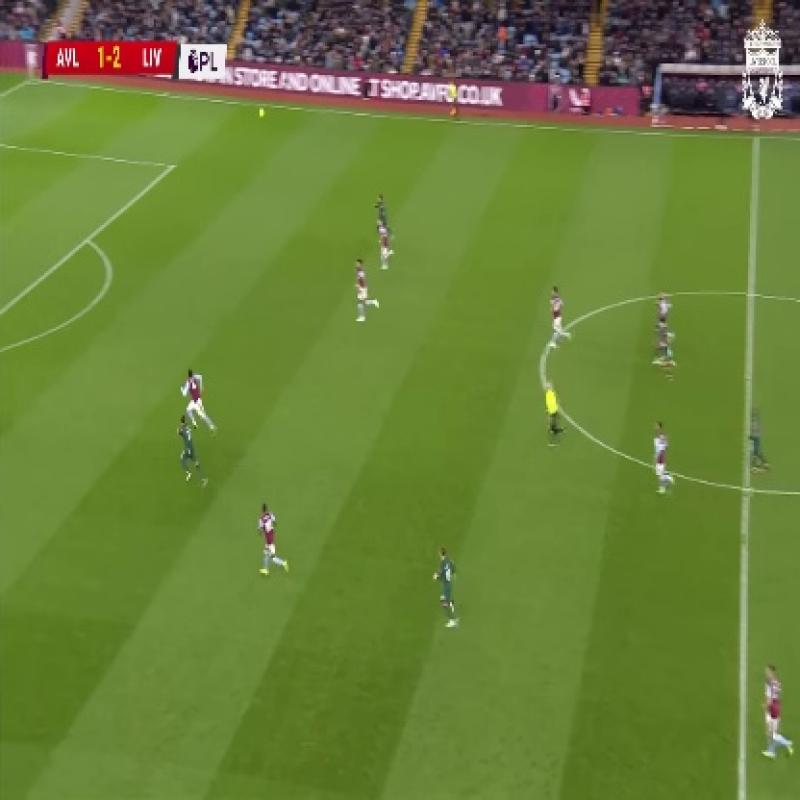1: (19, 71, 44, 89)
10: (77, 225, 96, 250)
13: (744, 121, 768, 152)
14: (736, 277, 764, 310)
15: (728, 466, 762, 510)
9: (162, 152, 180, 177)
c: (526, 342, 568, 390)
